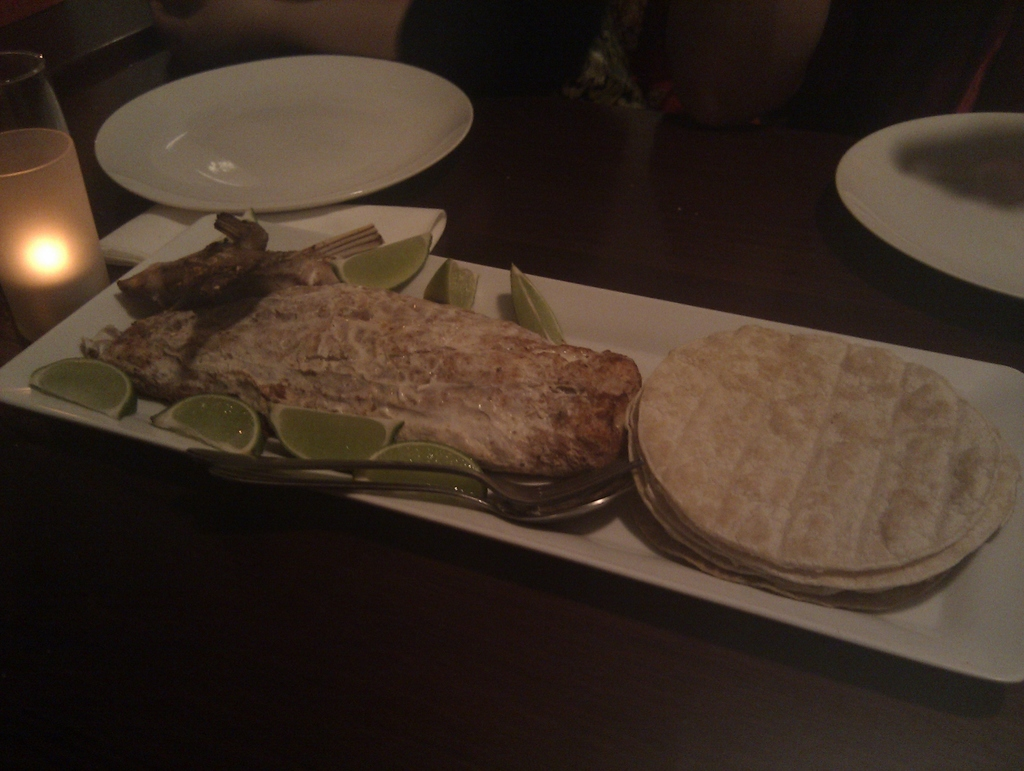plate: (88, 58, 457, 202)
